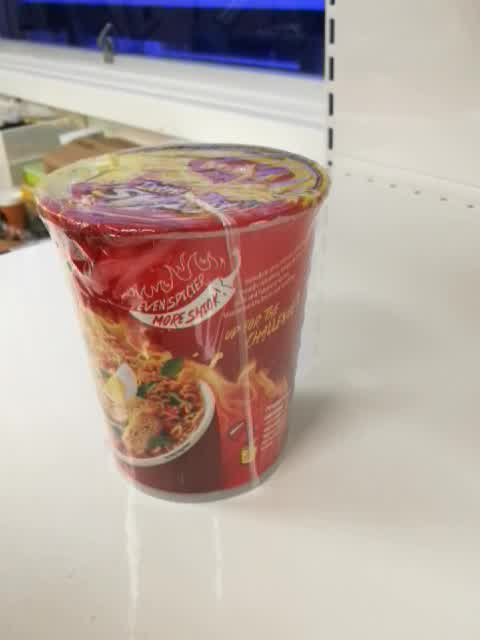maggi: (32, 141, 333, 505)
